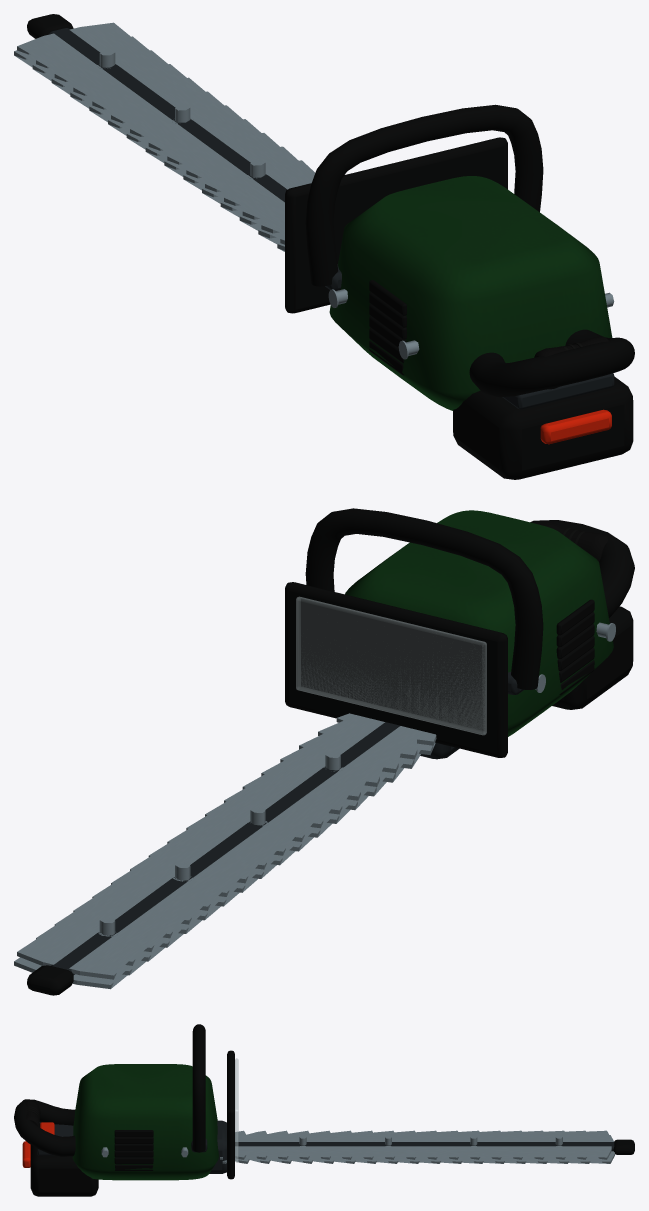
Rendered from CordlessHedgeTrimmer.fbx.
The picture shows the model from 3 angles, top to bottom: view 1: azimuth 30°, elevation 25°; view 2: azimuth 150°, elevation 25°; view 3: azimuth 270°, elevation 25°; orthographic projection. The views are drawn at different scales.
Parts seen in each view (by area): view 1: CordlessHedgeTrimmer__Body; view 2: CordlessHedgeTrimmer__Body, CordlessHedgeTrimmer__Glass_HandGuard; view 3: CordlessHedgeTrimmer__Body, CordlessHedgeTrimmer__Glass_HandGuard.
Boxes of the visible parts, box(x1,y1,x2,y2) form: CordlessHedgeTrimmer__Body: box(14, 14, 634, 479); CordlessHedgeTrimmer__Body: box(14, 508, 634, 995); CordlessHedgeTrimmer__Glass_HandGuard: box(296, 596, 486, 735); CordlessHedgeTrimmer__Body: box(14, 1024, 634, 1196); CordlessHedgeTrimmer__Glass_HandGuard: box(235, 1058, 238, 1162).
Bounding box in the file's own units: 30.8 × 30.8 × 124.
Materials: 2 (1 with a texture image).
